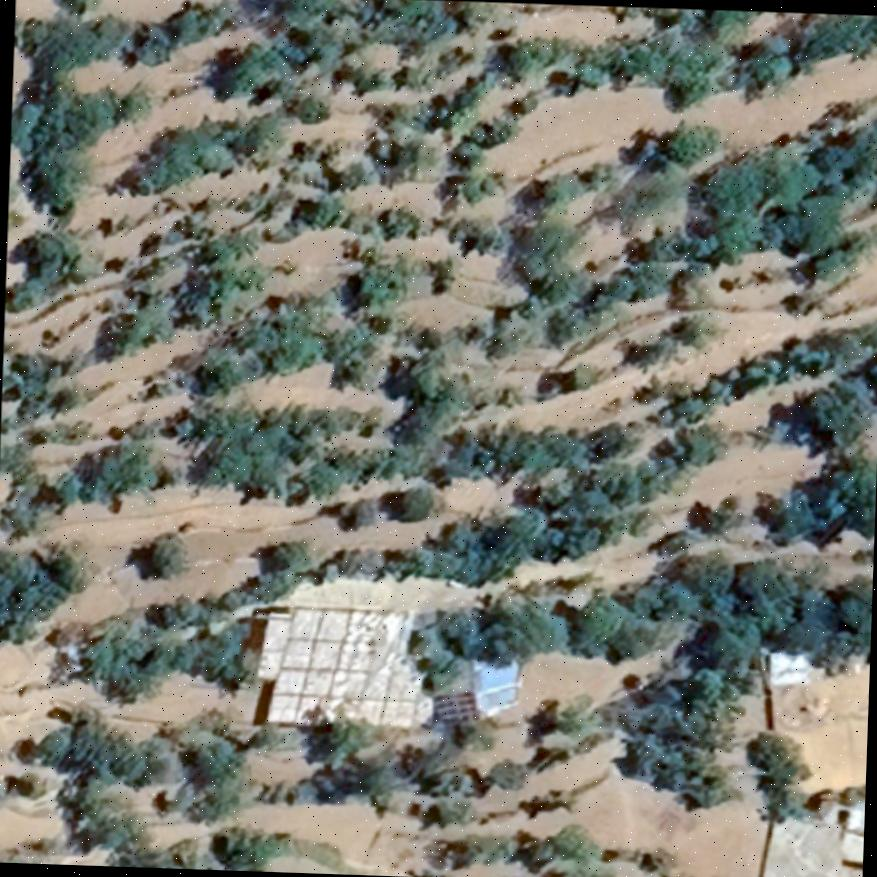Solarpanel: (429, 688, 480, 725)
